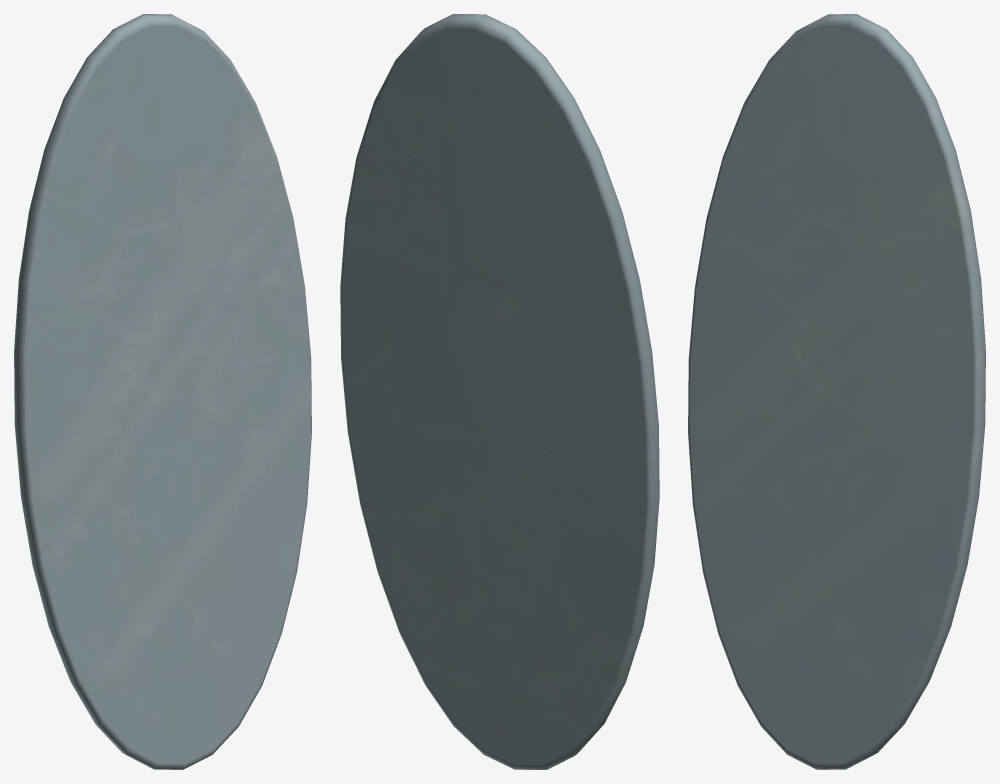
3 renders of one model, left to right at view 1: azimuth 30°, elevation 25°; view 2: azimuth 150°, elevation 25°; view 3: azimuth 330°, elevation 25°, orthographic. The views are drawn at different scales.
Visible parts, largest first — view 1: SM_Circle_of_Mirror_Frame_Glass_01_LOD0; view 2: SM_Circle_of_Mirror_Frame_Glass_01_LOD0; view 3: SM_Circle_of_Mirror_Frame_Glass_01_LOD0.
Part boxes in pixels (x1=…): SM_Circle_of_Mirror_Frame_Glass_01_LOD0: x1=14, y1=14, x2=311, y2=769; SM_Circle_of_Mirror_Frame_Glass_01_LOD0: x1=340, y1=14, x2=659, y2=769; SM_Circle_of_Mirror_Frame_Glass_01_LOD0: x1=688, y1=14, x2=985, y2=769.
Bounding box in the file's own units: 0.6408 × 1.53 × 0.1736.
Materials: 1 (1 with a texture image).
